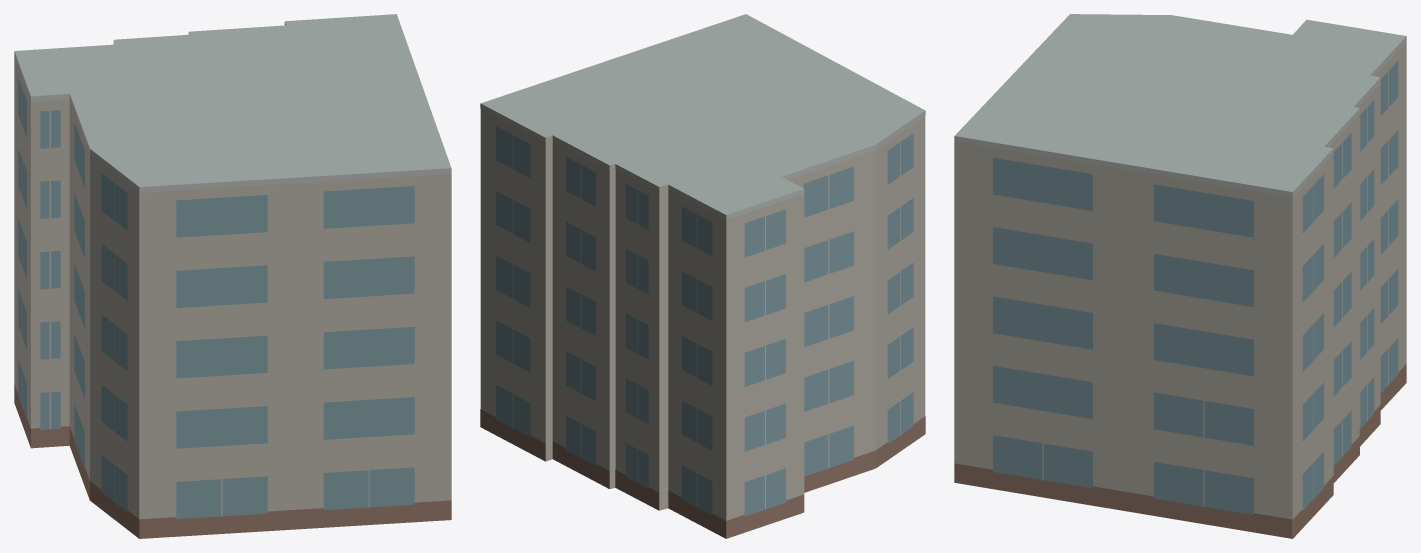
File: survey-upis-32492385.glb
3 renders of one model, left to right at view 1: azimuth 30°, elevation 25°; view 2: azimuth 150°, elevation 25°; view 3: azimuth 270°, elevation 25°, orthographic. The views are drawn at different scales.
Parts seen in each view (by area): view 1: survey-upis-32492385.tmp; view 2: survey-upis-32492385.tmp; view 3: survey-upis-32492385.tmp.
Part boxes in pixels (box(x1,y1,x2,y2)): survey-upis-32492385.tmp: box(14, 14, 451, 538); survey-upis-32492385.tmp: box(480, 14, 925, 538); survey-upis-32492385.tmp: box(954, 14, 1406, 538).
Size of the model in its own units: 16.81 by 15.25 by 18.03.
